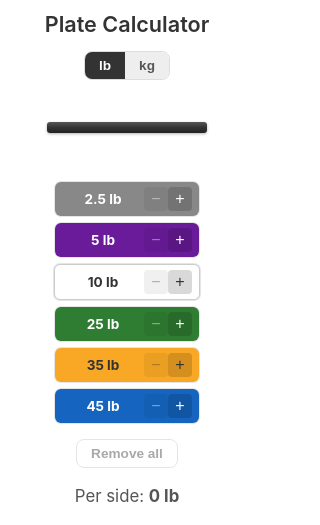
Scenario: TC-07: switching from lb to kg after adding plates clears all plates
Note: Add a plate so there's something to clear
Click the button named "Add 45 lb" at (180, 406), box [168,394,192,418]
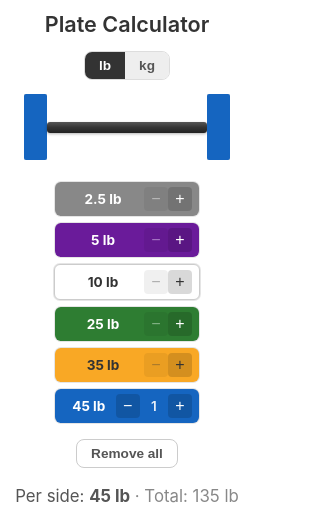
Expected: the text "· Total: 135 lb" is shown, [130,486,239,506]
Click the button "kg" at (147, 66), box [125,52,169,79]
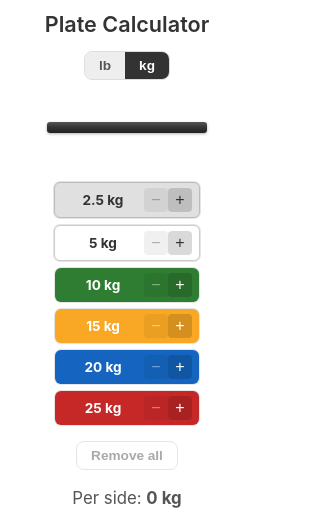
Expected: the text "Total:" is gone
Expected: the text "0 kg" is shown, [146,488,182,508]
